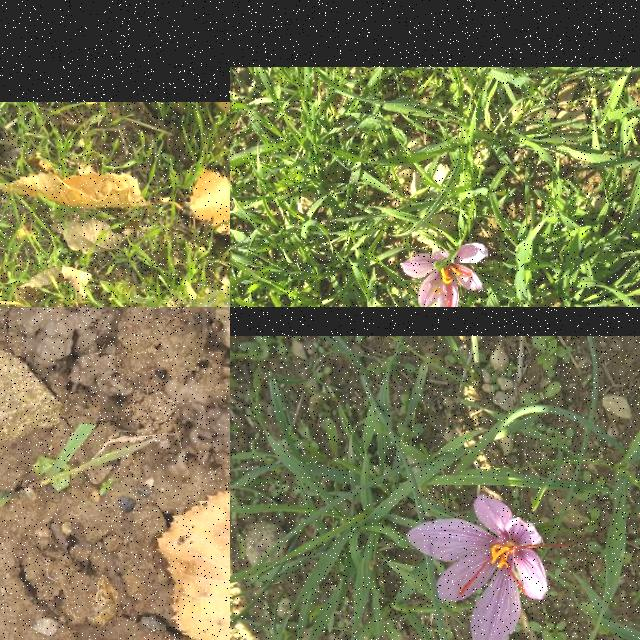flower: (408, 495, 569, 640), (401, 243, 489, 307)
